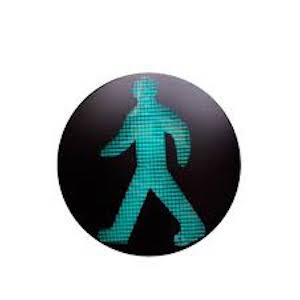green: (103, 74, 207, 256)
